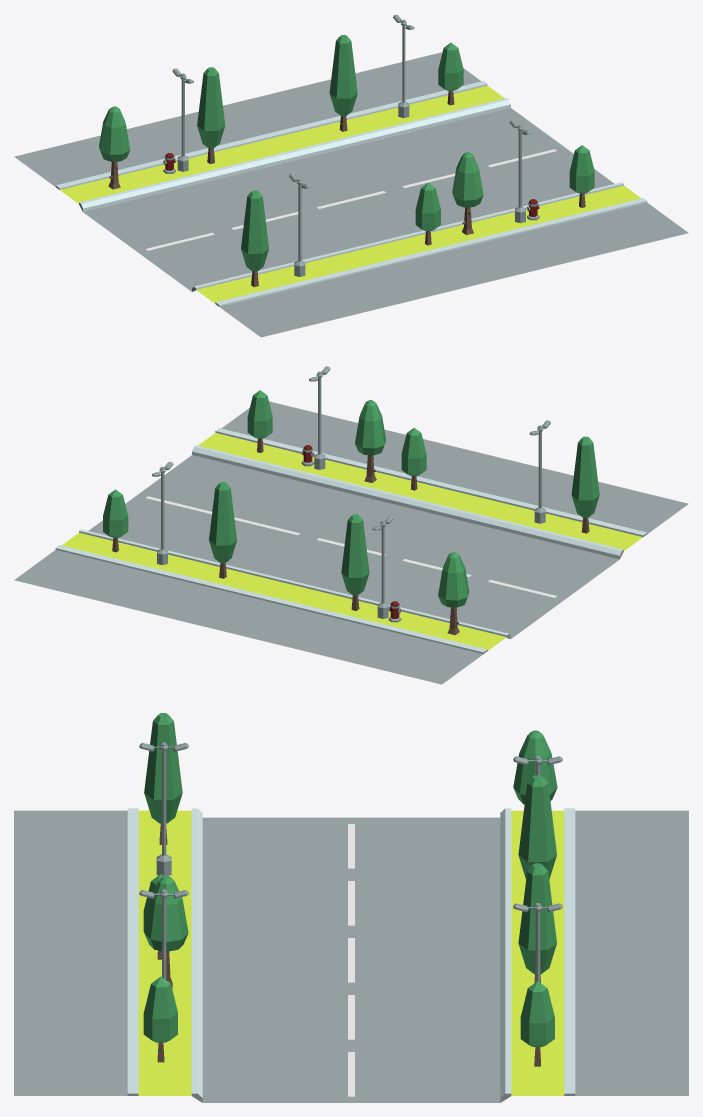
Rendered from Tile_Road_Base.fbx.
3 renders of one model, top to bottom at view 1: azimuth 30°, elevation 25°; view 2: azimuth 150°, elevation 25°; view 3: azimuth 270°, elevation 25°, orthographic. The views are drawn at different scales.
Parts seen in each view (by area): view 1: Plane.004; view 2: Plane.004; view 3: Plane.004.
Part boxes in pixels (box(x1,y1,x2,y2)): Plane.004: box(14, 14, 688, 337); Plane.004: box(14, 366, 688, 684); Plane.004: box(14, 713, 688, 1102).
Size of the model in its own units: 250 by 55.99 by 250.
